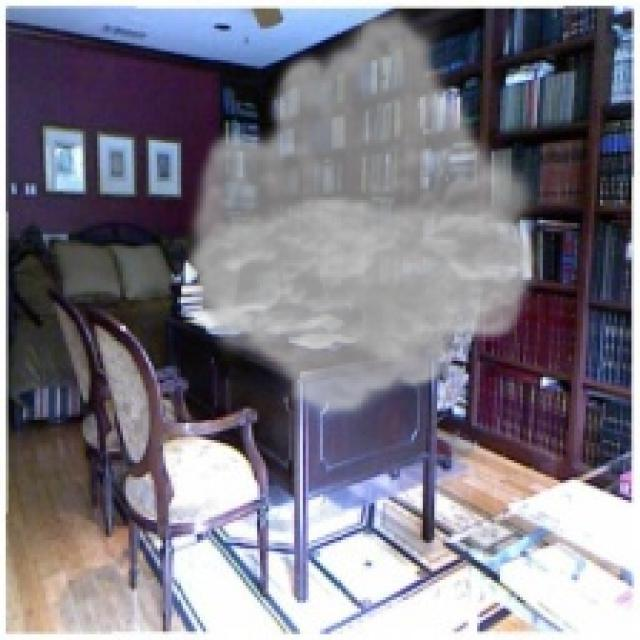Smoke: (177, 3, 546, 420)
